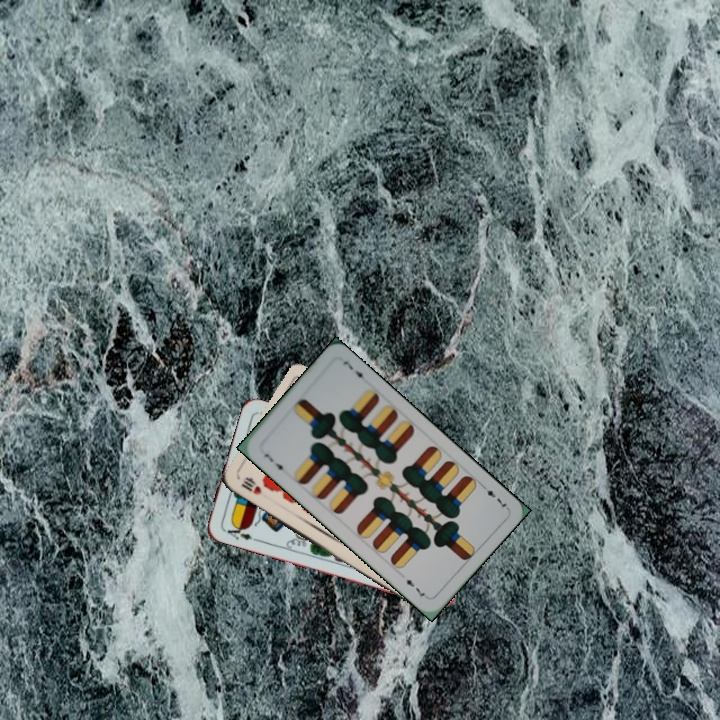E7: (477, 480, 510, 511), (260, 449, 288, 476)
EA: (220, 520, 260, 544)
H10: (237, 474, 264, 497)
